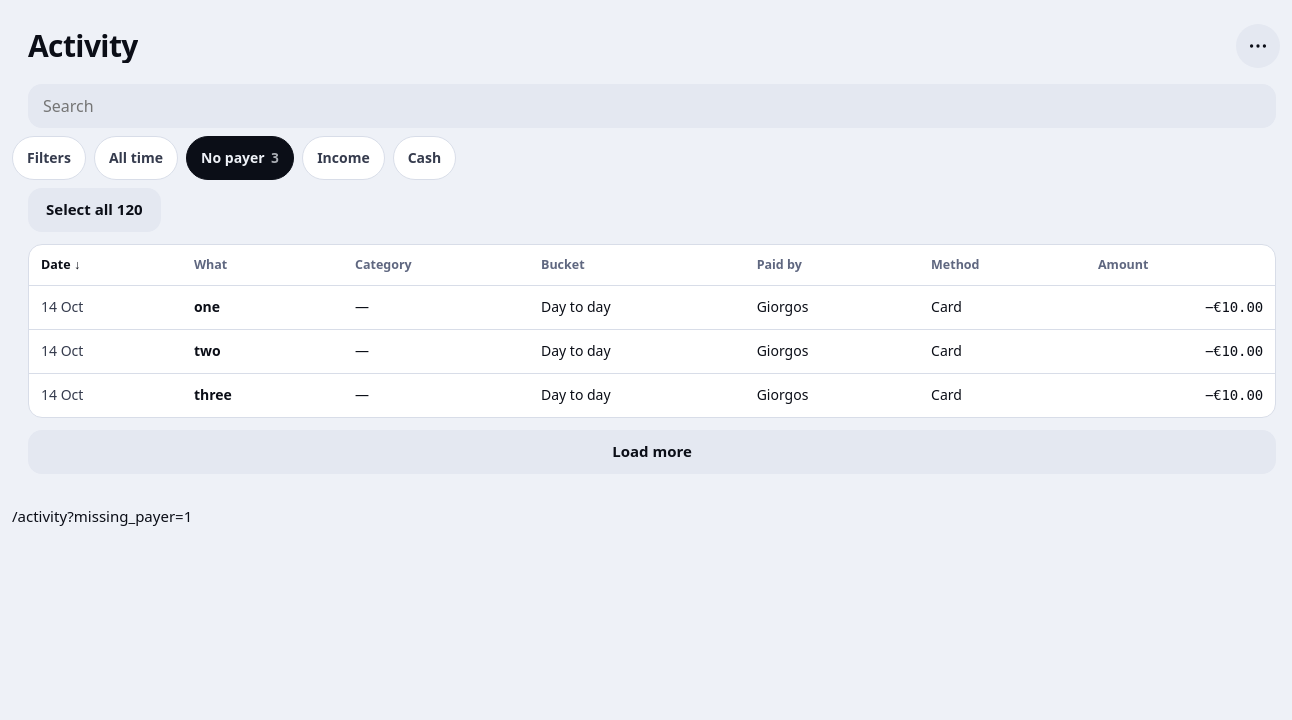
Test: selection mode › "Select all N" under the No payer chip selects by filter
What coordinates should you click on to do the following:
click the button "Select all 120"
I would click on:
 (94, 210)
Its box is [28,188,161,232].
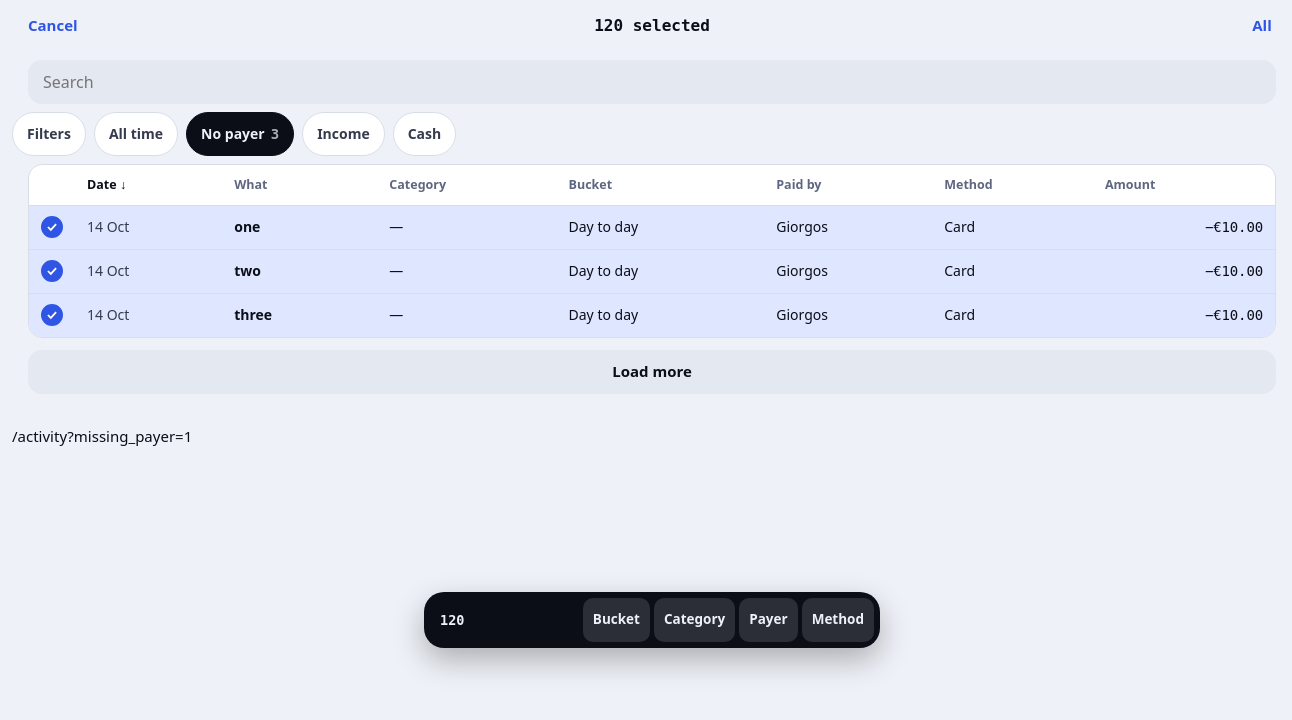
Check: the heading "120 selected" is shown, box [594,14,710,38]
